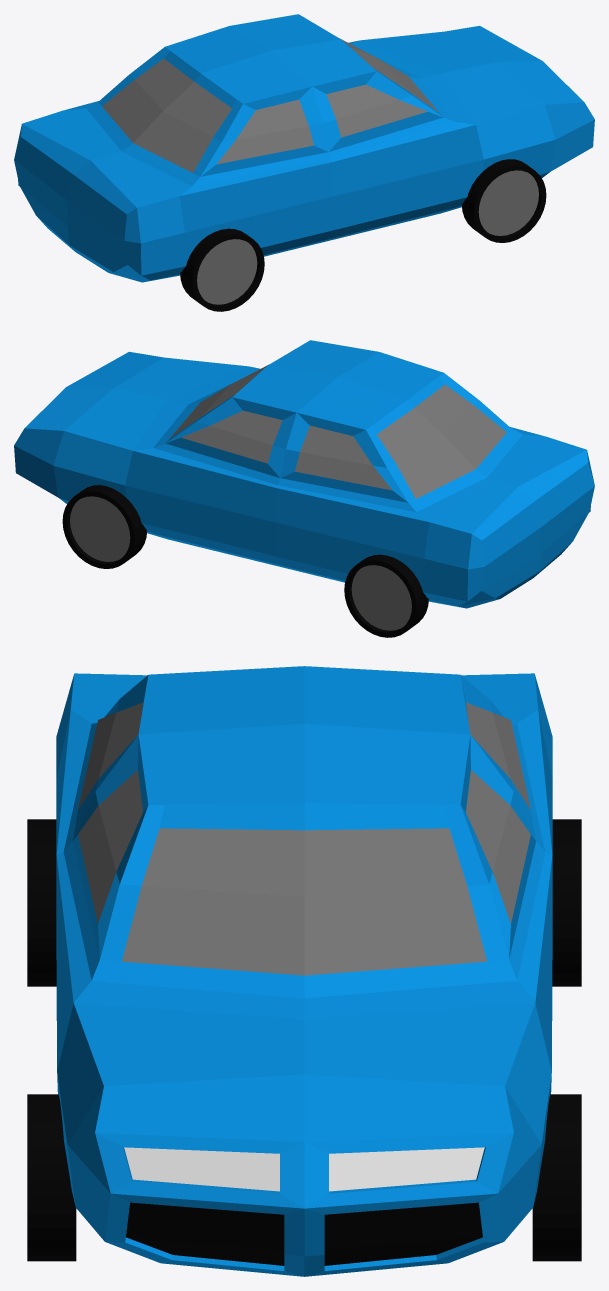
File: car.fbx
The picture shows the model from 3 angles, top to bottom: view 1: azimuth 30°, elevation 25°; view 2: azimuth 150°, elevation 25°; view 3: azimuth 270°, elevation 25°; orthographic projection. The views are drawn at different scales.
Visible parts, largest first — view 1: Car001; view 2: Car001; view 3: Car001.
Part boxes in pixels (left/top/right/bottom): Car001: left=14, top=14, right=594, bottom=311; Car001: left=14, top=340, right=594, bottom=637; Car001: left=27, top=666, right=581, bottom=1276.
Bounding box in the file's own units: 357 × 126 × 174.
